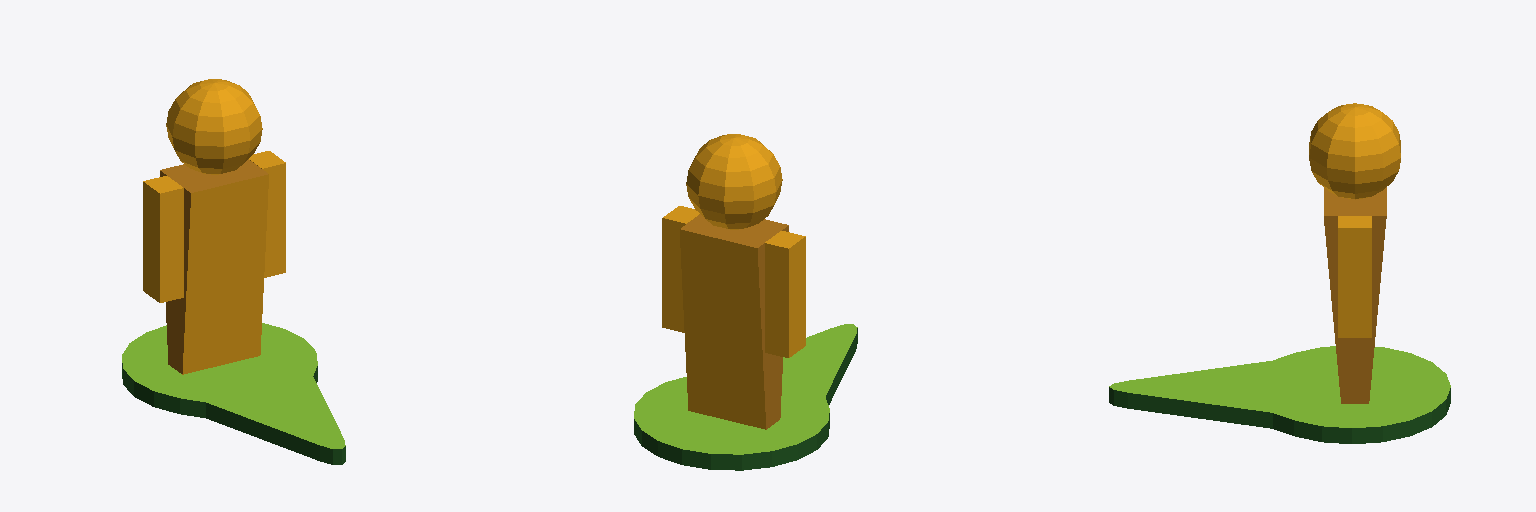
The model's file is i_am_here_marker.obj.
3 views of the same model, side by side, from view 1: azimuth 30°, elevation 25°; view 2: azimuth 150°, elevation 25°; view 3: azimuth 270°, elevation 25° (orthographic).
Parts seen in each view (by area): view 1: pasted__pasted__pCube4 group; view 2: pasted__pasted__pCube4 group; view 3: pasted__pasted__pCube4 group.
Part boxes in pixels (x1,y1,x2,y2): pasted__pasted__pCube4 group: (122,79,345,464); pasted__pasted__pCube4 group: (634,134,857,470); pasted__pasted__pCube4 group: (1109,103,1450,443).
Size of the model in its own units: 0.0976 by 0.1599 by 0.1691.